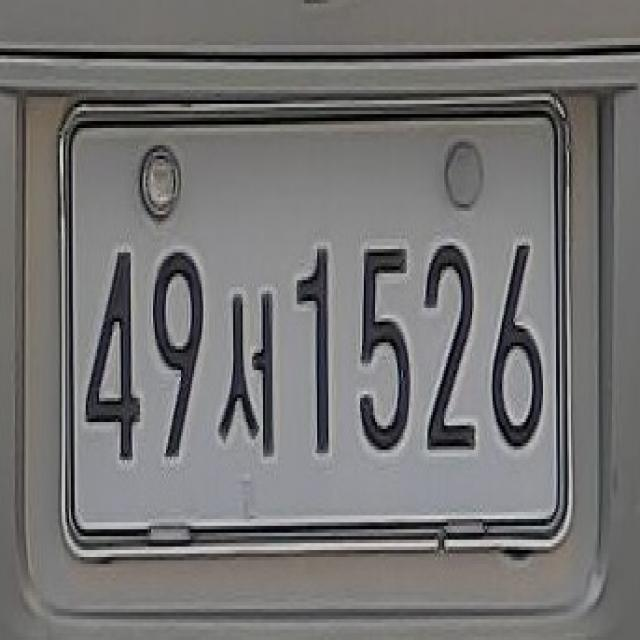1: (296, 211, 338, 486)
2: (420, 224, 478, 485)
4: (80, 239, 142, 485)
5: (356, 223, 414, 461)
6: (492, 226, 544, 467)
9: (150, 231, 206, 468)
license_plate: (34, 68, 582, 578)
seo: (215, 268, 278, 470)
